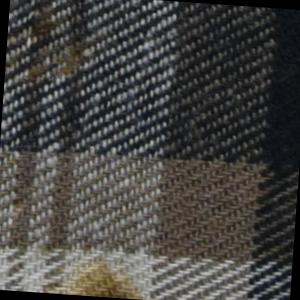Oil Stain: (5, 1, 114, 94), (41, 254, 160, 300)
